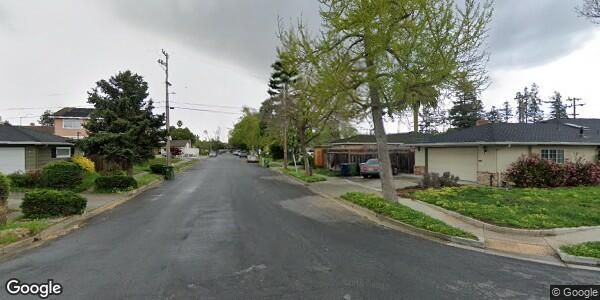Wood_Pole: (153, 48, 178, 169)
